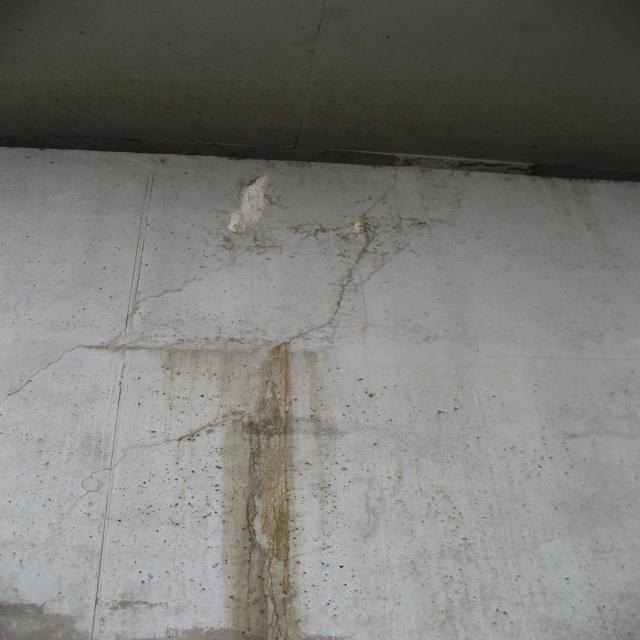corrosion: (224, 340, 327, 640)
